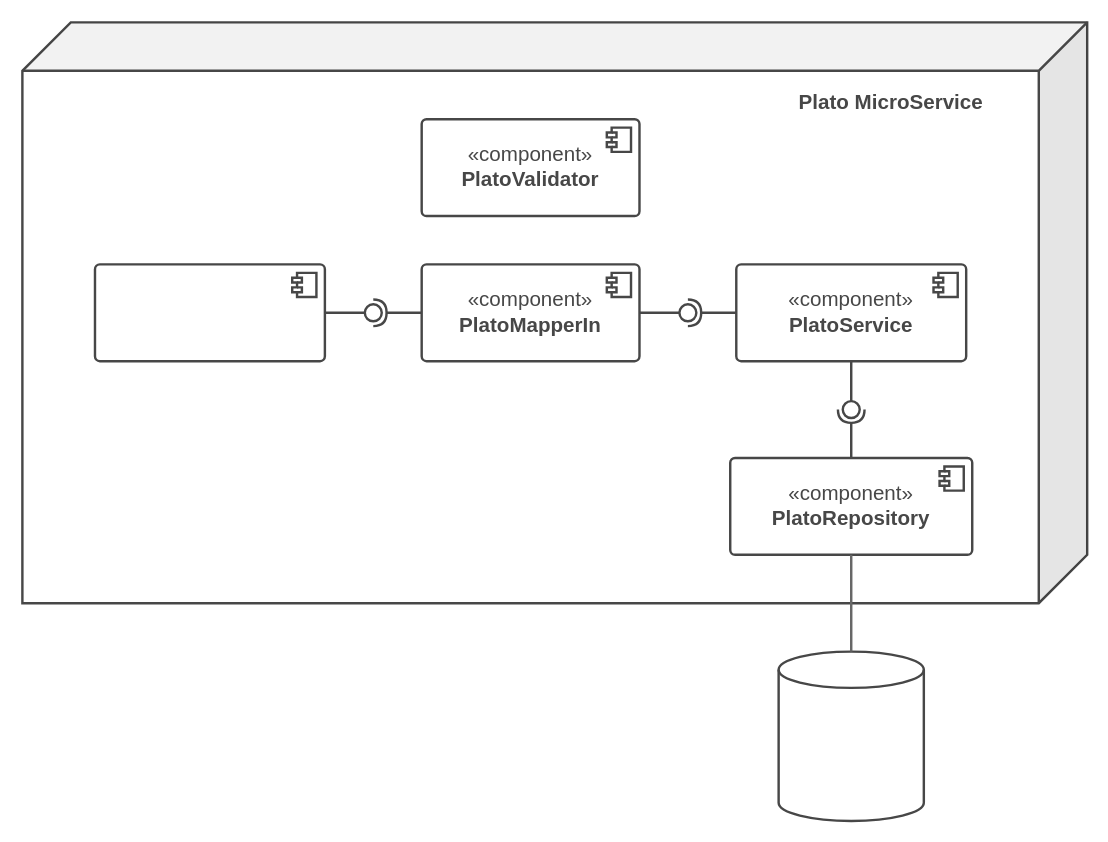
Image size: 1108x842. Some labels were removed from this diagram. The shapes that lost their labels are listed below. From the top down, each one's centre as x and y in pixels, then its label:
the point at 209,312: «component» PlatoController
the point at 850,736: Data Base
